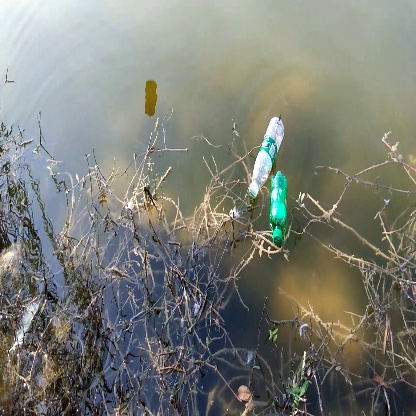bottle: (244, 116, 286, 197)
